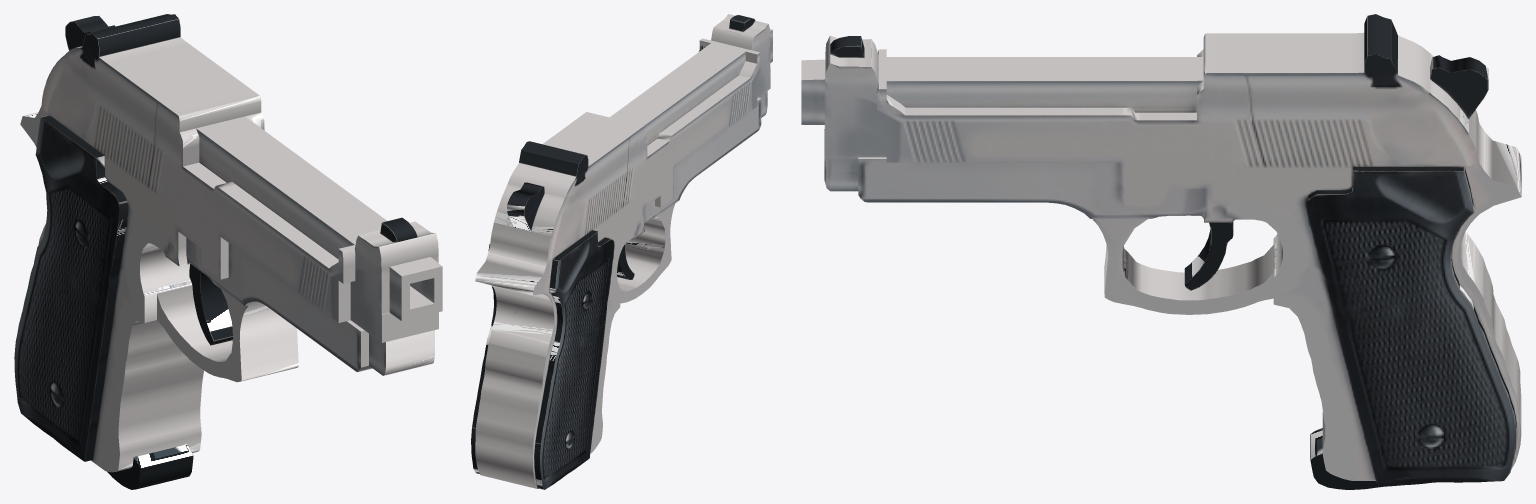
The model's file is pistol.obj.
The picture shows the model from 3 angles, left to right: view 1: azimuth 30°, elevation 25°; view 2: azimuth 150°, elevation 25°; view 3: azimuth 270°, elevation 25°; orthographic projection. The views are drawn at different scales.
Parts seen in each view (by area): view 1: Pistol_2_Untitled.001, Clip_Untitled; view 2: Pistol_2_Untitled.001; view 3: Pistol_2_Untitled.001, Clip_Untitled.
Boxes of the visible parts, bbox=[...] form: Pistol_2_Untitled.001: bbox=[14, 14, 442, 472]; Clip_Untitled: bbox=[107, 444, 193, 489]; Pistol_2_Untitled.001: bbox=[471, 14, 772, 489]; Pistol_2_Untitled.001: bbox=[801, 14, 1521, 482]; Clip_Untitled: bbox=[1310, 428, 1435, 489].
Bounding box in the file's own units: 0.18 × 0.7796 × 1.15.
